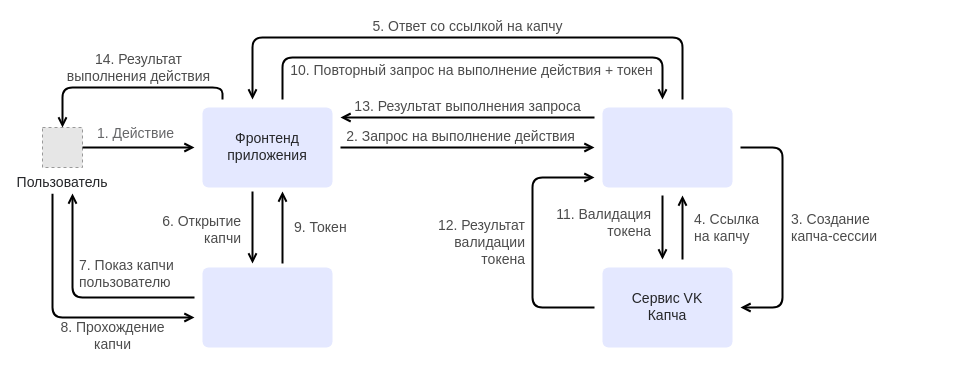
This 958x383 diagram has some shape labels left out. Grey dashed boxes stand in for pictures. The shapes that lost their labels are listed below. From the top down, each one's centre as x and y in pixels, then its label:
At point 667,147: "Бэкенд приложения".
At point 267,307: "VK Капча SDK".
